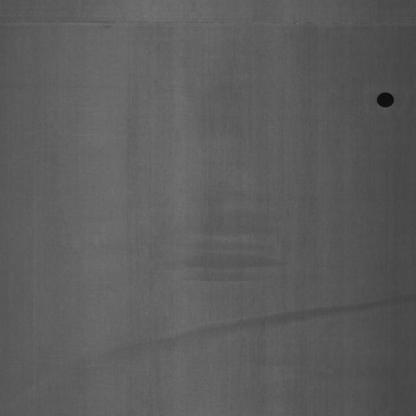punching_hole: (375, 84, 399, 112)
